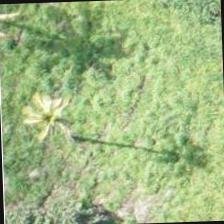Kelapa_Sawit: (0, 76, 92, 170)
